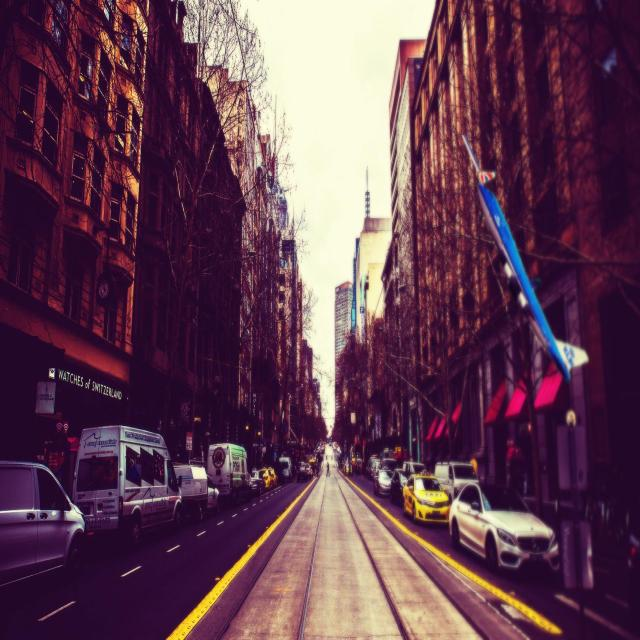airplane: (460, 132, 589, 382)
